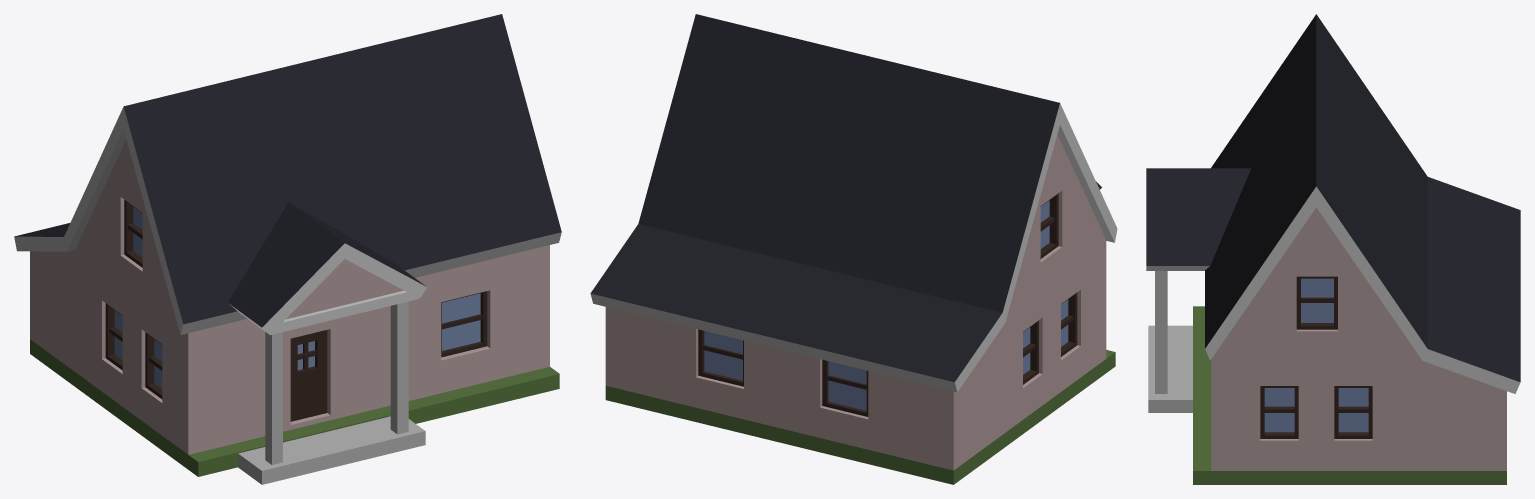
File: FamilyHouse_09.fbx
3 views of the same model, side by side, from view 1: azimuth 30°, elevation 25°; view 2: azimuth 150°, elevation 25°; view 3: azimuth 270°, elevation 25° (orthographic). The views are drawn at different scales.
Parts seen in each view (by area): view 1: FamilyHouse_09; view 2: FamilyHouse_09; view 3: FamilyHouse_09.
Part boxes in pixels (<box>): FamilyHouse_09: <box>14,14,561,484</box>; FamilyHouse_09: <box>590,14,1117,484</box>; FamilyHouse_09: <box>1146,14,1520,484</box>.
Bounding box in the file's own units: 10.67 × 8.74 × 9.8.
